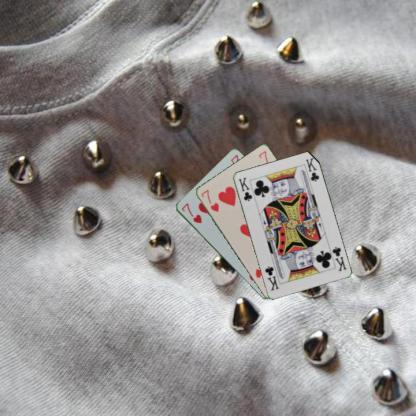7h: (178, 201, 204, 224), (198, 187, 220, 213)
Kc: (330, 244, 348, 272), (236, 175, 253, 202)
